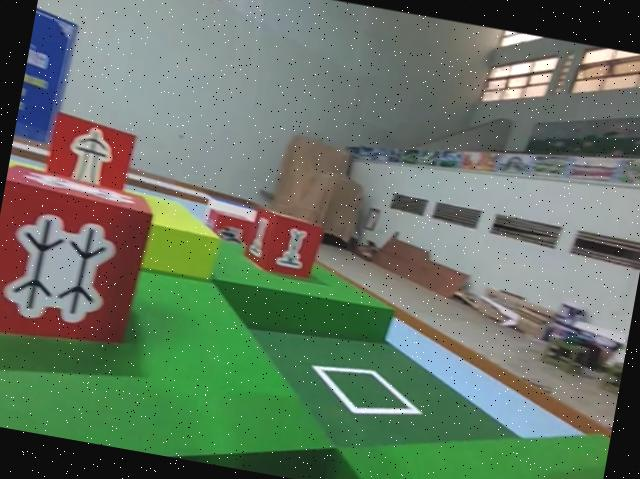R1: (201, 206, 256, 251)
R2 Fake: (41, 107, 143, 201)
R2 Real: (0, 165, 161, 363), (241, 206, 327, 284)
